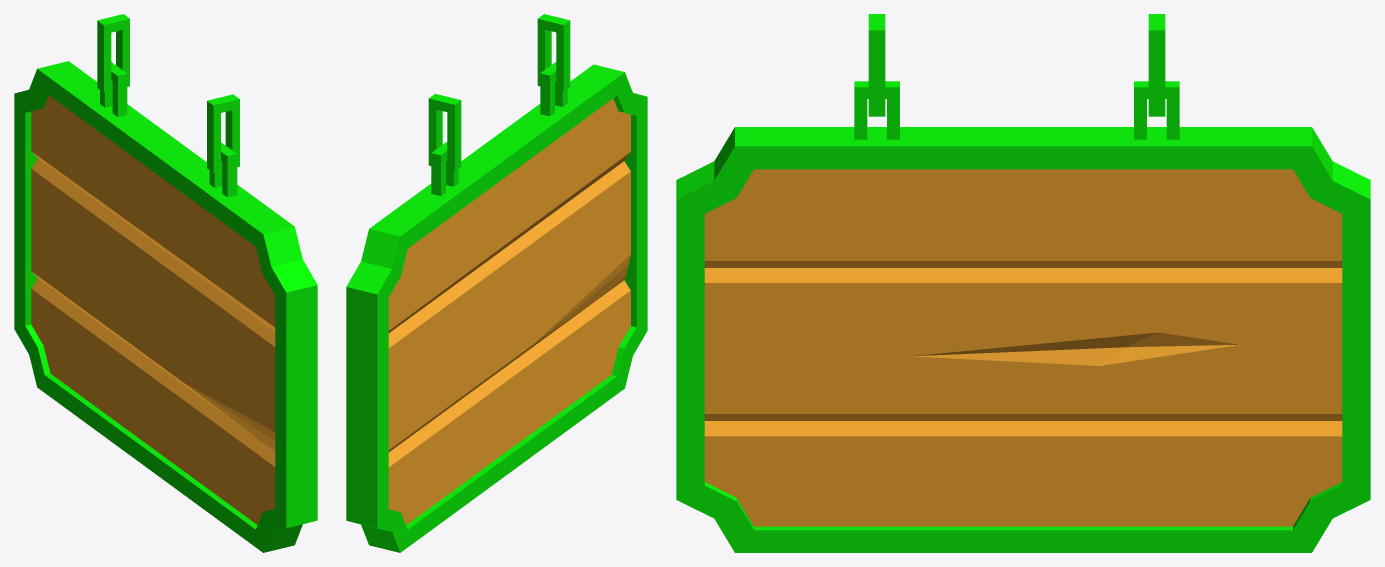
The model's file is SM_Signboard_Plain_A_Fantasy.fbx.
3 renders of one model, left to right at view 1: azimuth 30°, elevation 25°; view 2: azimuth 150°, elevation 25°; view 3: azimuth 270°, elevation 25°, orthographic. The views are drawn at different scales.
Parts seen in each view (by area): view 1: singboard-plain-a-fantasy; view 2: singboard-plain-a-fantasy; view 3: singboard-plain-a-fantasy.
Boxes of the visible parts, bbox=[...] form: singboard-plain-a-fantasy: bbox=[14, 14, 317, 552]; singboard-plain-a-fantasy: bbox=[346, 14, 647, 552]; singboard-plain-a-fantasy: bbox=[676, 14, 1370, 552].
Size of the model in its own units: 0.0802 by 0.995 by 1.2.
